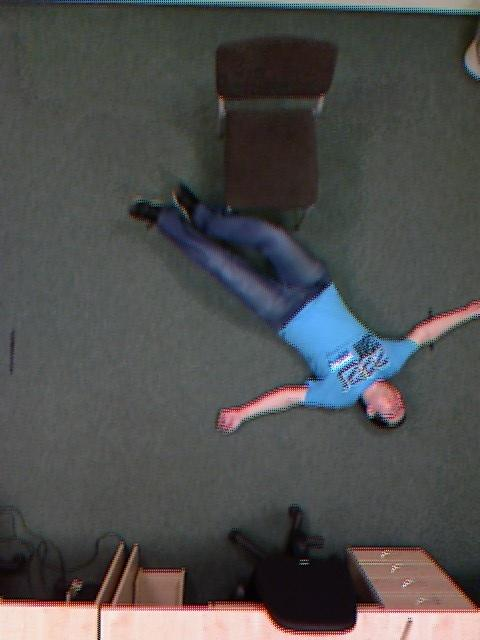fall: (188, 81, 414, 557)
